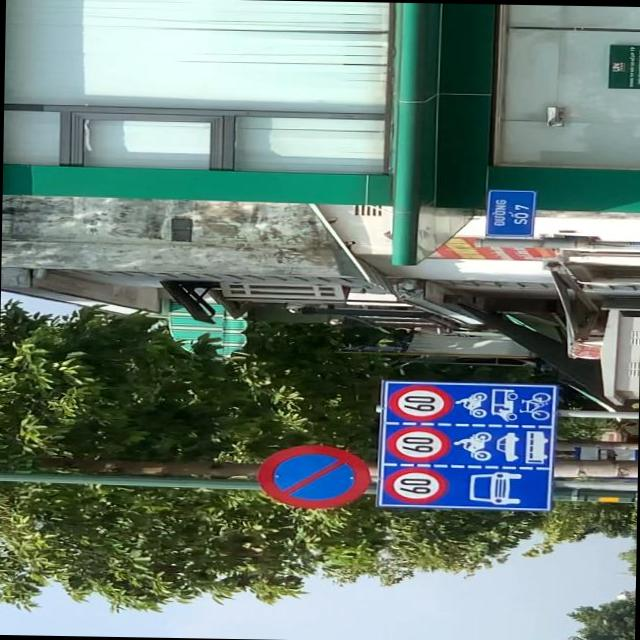P-127c: (376, 380, 558, 510)
P-131a: (258, 445, 370, 506)
